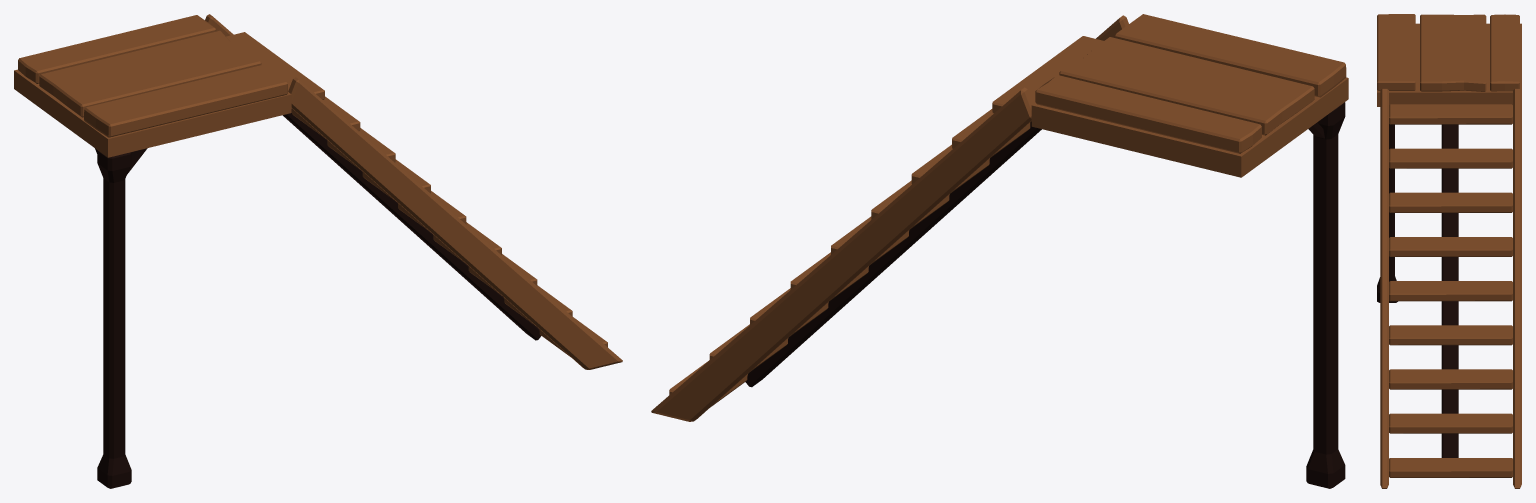
Rendered from ww_stairs_c.glb.
The picture shows the model from 3 angles, left to right: view 1: azimuth 30°, elevation 25°; view 2: azimuth 150°, elevation 25°; view 3: azimuth 270°, elevation 25°; orthographic projection. The views are drawn at different scales.
Parts seen in each view (by area): view 1: Stairs_C; view 2: Stairs_C; view 3: Stairs_C.
Boxes of the visible parts, left/top/right/bottom form: Stairs_C: left=14, top=14, right=622, bottom=488; Stairs_C: left=651, top=14, right=1348, bottom=488; Stairs_C: left=1377, top=14, right=1521, bottom=488.
Size of the model in its own units: 5.2 by 3.51 by 1.63.
